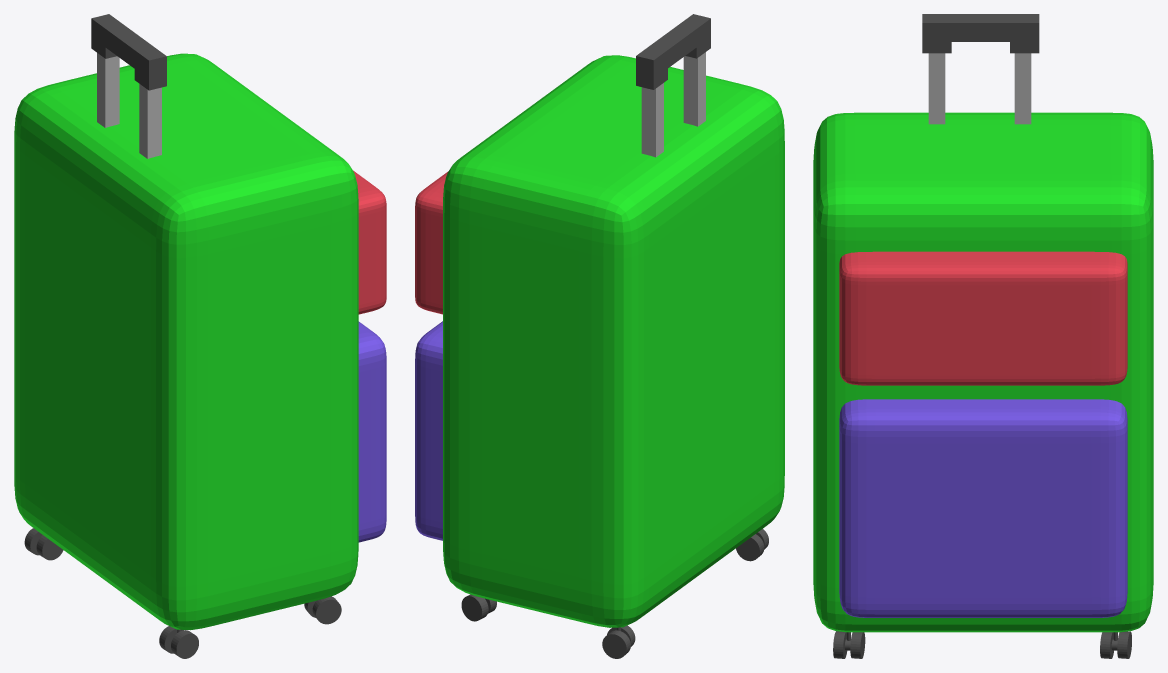
File: SmallCase4.fbx
3 views of the same model, side by side, from view 1: azimuth 30°, elevation 25°; view 2: azimuth 150°, elevation 25°; view 3: azimuth 270°, elevation 25° (orthographic). The views are drawn at different scales.
Visible parts, largest first — view 1: Cylinder; view 2: Cylinder; view 3: Cylinder.
Boxes of the visible parts, left/top/right/bottom form: Cylinder: left=14, top=14, right=386, bottom=658; Cylinder: left=415, top=14, right=784, bottom=658; Cylinder: left=813, top=14, right=1153, bottom=658.
Size of the model in its own units: 163 by 376 by 202.
